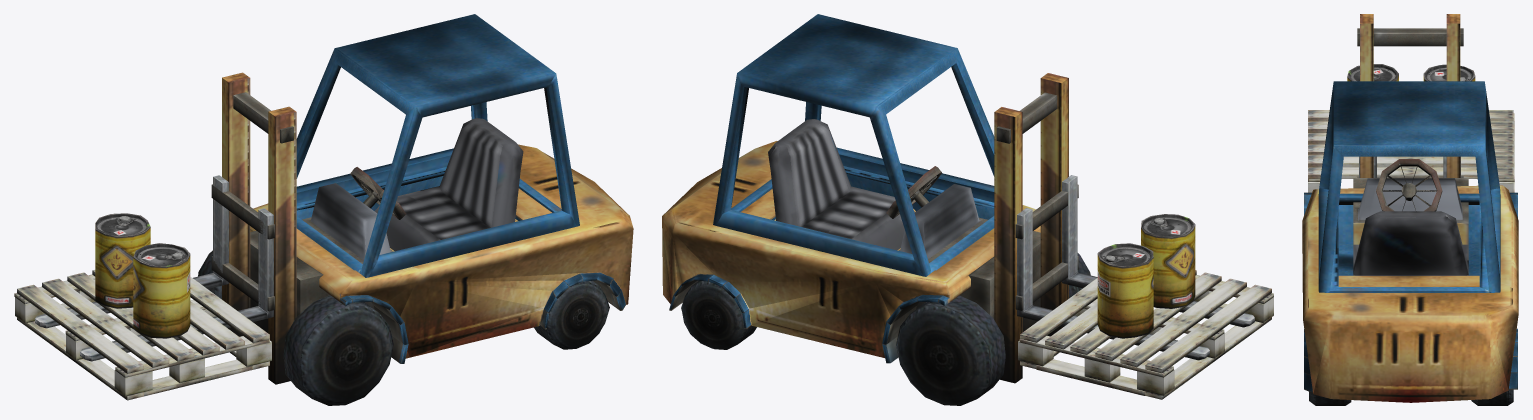
Rendered from forktruck.obj.
3 views of the same model, side by side, from view 1: azimuth 30°, elevation 25°; view 2: azimuth 150°, elevation 25°; view 3: azimuth 270°, elevation 25° (orthographic). The views are drawn at different scales.
Visible parts, largest first — view 1: Group; view 2: Group; view 3: Group.
Boxes of the visible parts, x1,y1,x2,y2 form: Group: (14,14,633,405); Group: (662,14,1273,405); Group: (1302,14,1518,405).
Size of the model in its own units: 139 by 70.02 by 52.34.
Materials: 1 (1 with a texture image).
